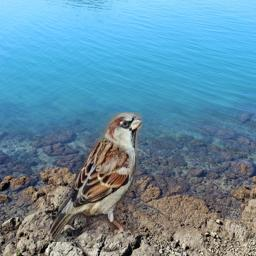Sparrow: (50, 112, 142, 242)
